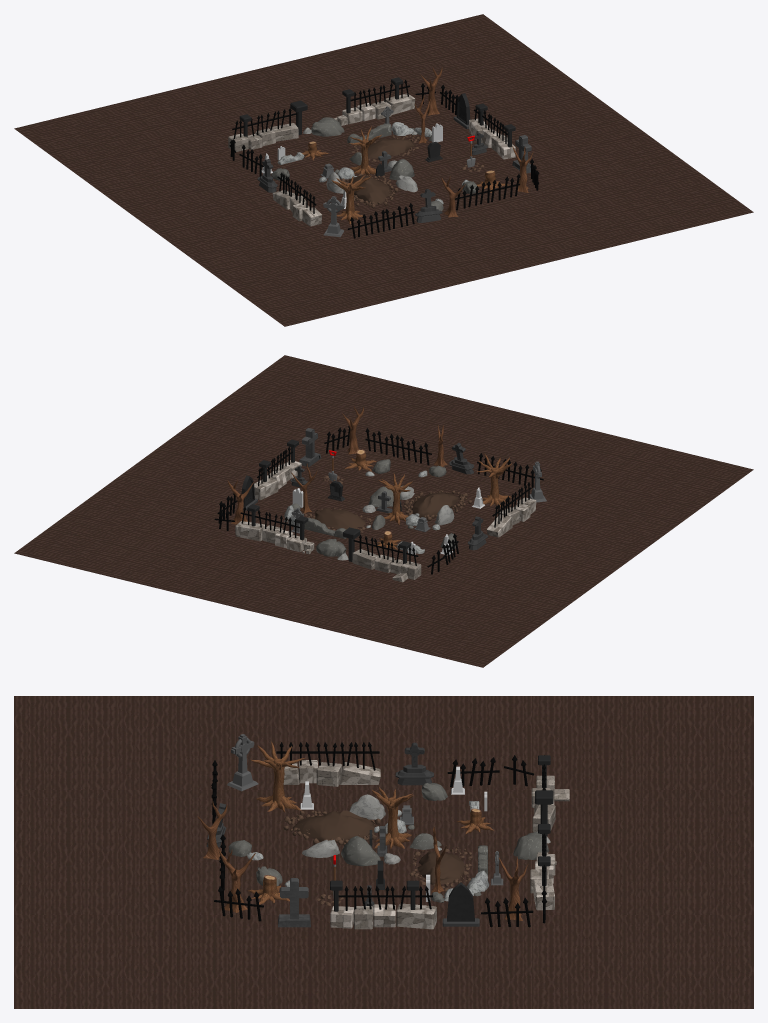
The model's file is 第三關場景.fbx.
3 renders of one model, top to bottom at view 1: azimuth 30°, elevation 25°; view 2: azimuth 150°, elevation 25°; view 3: azimuth 270°, elevation 25°, orthographic. The views are drawn at different scales.
Visible parts, largest first — view 1: floor, polySurface801, polySurface802, polySurface800, polySurface782; view 2: floor, polySurface802, polySurface801, polySurface800, polySurface782; view 3: floor, polySurface801, polySurface800, polySurface802, polySurface782, polySurface695, polySurface764, polySurface702, polySurface761, polySurface548, polySurface768, polySurface704 (+9 smaller).
Part boxes in pixels (left/top/right/bottom): floor: left=14, top=14, right=753, bottom=326; polySurface801: left=349, top=175, right=390, bottom=204; polySurface802: left=367, top=138, right=415, bottom=158; polySurface800: left=331, top=175, right=371, bottom=224; polySurface782: left=348, top=126, right=381, bottom=176; floor: left=14, top=355, right=753, bottom=667; polySurface802: left=314, top=508, right=365, bottom=529; polySurface801: left=412, top=492, right=458, bottom=517; polySurface800: left=476, top=453, right=511, bottom=506; polySurface782: left=378, top=473, right=412, bottom=525; floor: left=14, top=696, right=753, bottom=1008; polySurface801: left=292, top=810, right=375, bottom=842; polySurface800: left=250, top=741, right=305, bottom=812; polySurface802: left=417, top=851, right=464, bottom=885; polySurface782: left=371, top=786, right=413, bottom=848; polySurface695: left=395, top=742, right=433, bottom=785; polySurface764: left=396, top=903, right=436, bottom=929; polySurface702: left=447, top=882, right=474, bottom=921; polySurface761: left=227, top=734, right=258, bottom=791; polySurface548: left=341, top=836, right=380, bottom=866; polySurface768: left=339, top=762, right=380, bottom=784; polySurface704: left=513, top=831, right=549, bottom=859.
Size of the model in its own units: 54.7 by 7.31 by 54.7.
